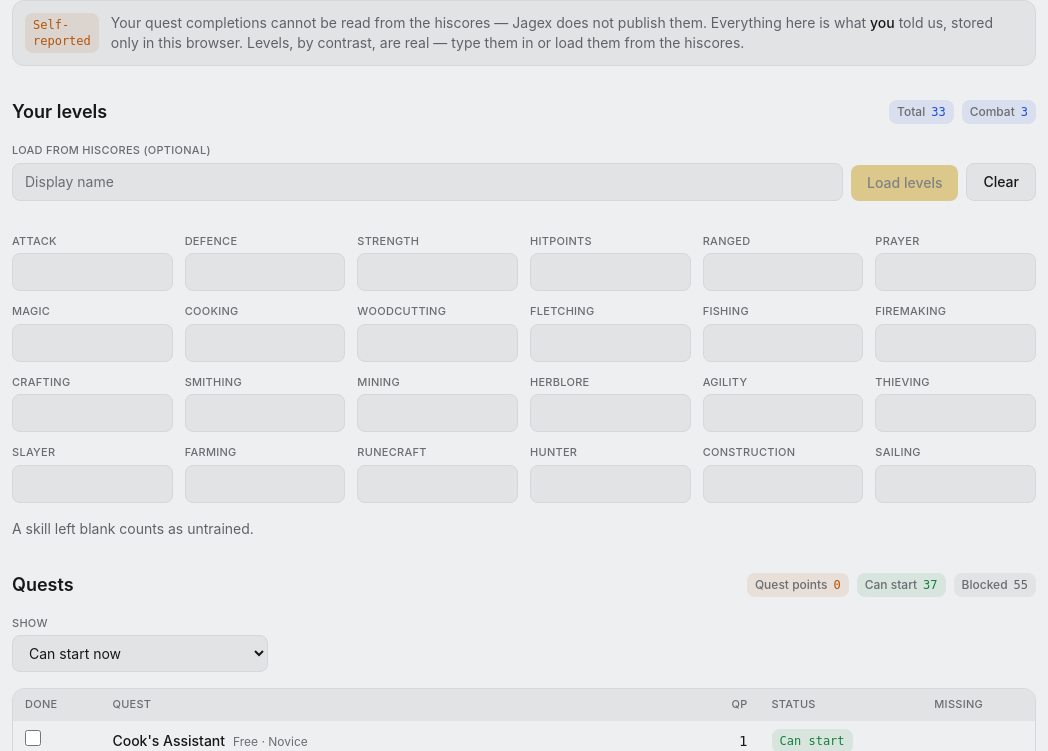
QuestPlanner — level entry › rejects 0 (below the minimum) with a message rather than NaN
In the field labelled "Mining": (438, 413) 357,394 -> 518,432, type "0"
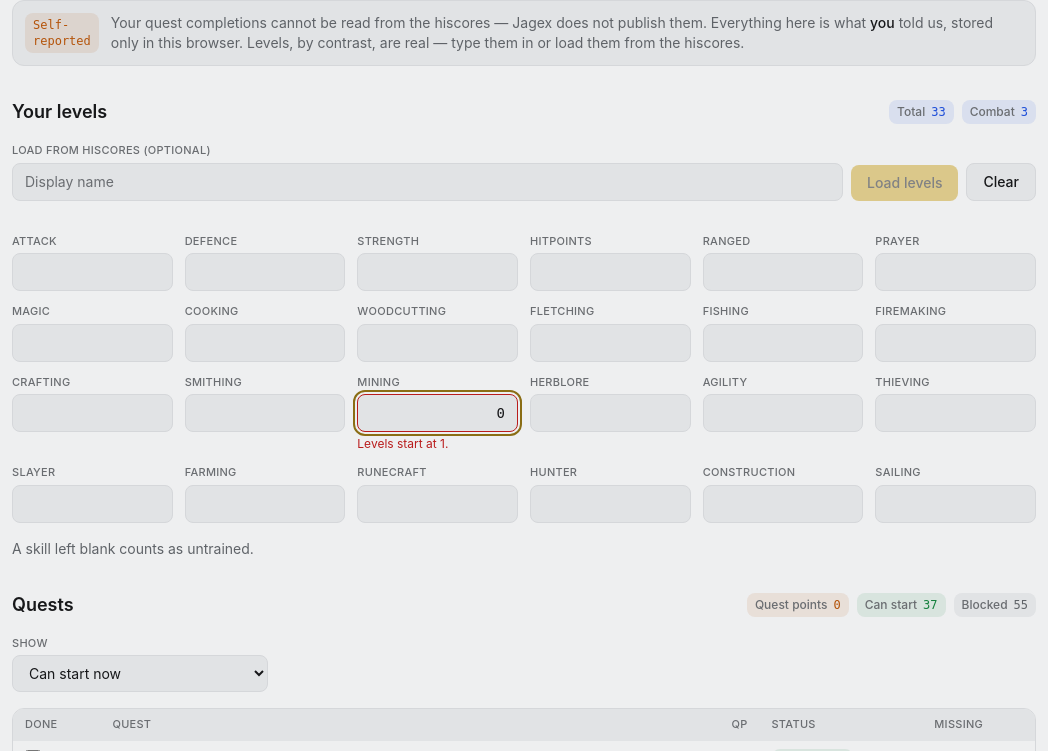
Expected: the text "Levels start at 1." is shown, 357,436 -> 448,451
